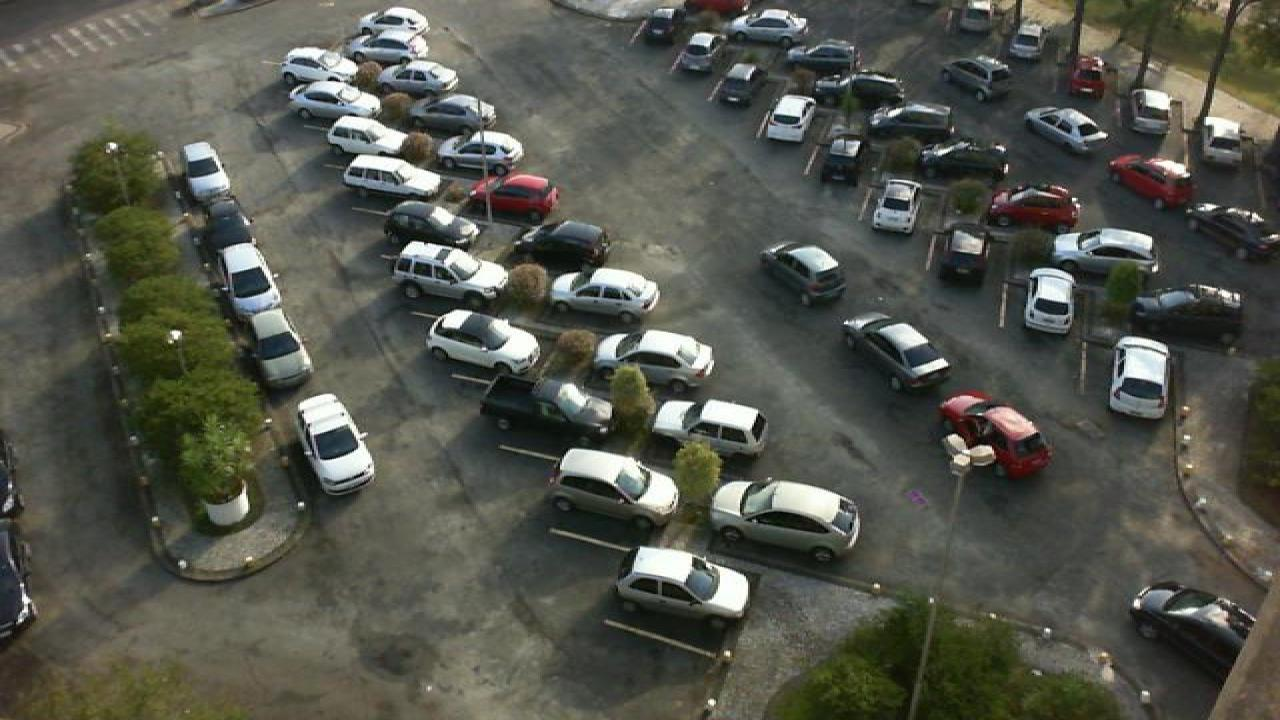Car: (706, 476, 864, 562), (1128, 580, 1258, 682), (612, 544, 754, 630), (550, 447, 682, 531), (476, 370, 616, 447), (938, 388, 1054, 479), (838, 310, 952, 390), (294, 391, 378, 498), (592, 327, 720, 394), (652, 396, 772, 465), (424, 308, 542, 377), (392, 240, 510, 304), (1132, 282, 1244, 342), (550, 267, 664, 325), (756, 241, 848, 306), (246, 306, 316, 388), (1108, 335, 1174, 421), (1184, 202, 1280, 260), (508, 218, 610, 272), (1052, 226, 1162, 276), (1106, 152, 1200, 208), (982, 182, 1082, 232), (340, 152, 444, 200), (216, 242, 284, 315), (1022, 102, 1110, 156), (384, 198, 482, 246), (470, 172, 562, 223), (1020, 266, 1078, 336), (322, 112, 410, 158), (288, 79, 386, 120), (432, 128, 526, 170), (936, 219, 998, 282), (408, 92, 500, 133), (918, 137, 1010, 178), (178, 139, 236, 202), (820, 66, 908, 107), (344, 30, 430, 70), (870, 99, 954, 139), (278, 46, 366, 84), (940, 55, 1014, 100), (198, 195, 258, 250), (376, 57, 460, 94), (354, 6, 432, 44), (730, 8, 812, 44), (870, 178, 922, 234), (764, 93, 820, 144), (818, 135, 868, 187), (714, 60, 768, 108), (786, 38, 858, 74), (1206, 114, 1254, 164), (1130, 86, 1176, 136), (676, 29, 726, 73), (632, 4, 682, 47), (1068, 54, 1110, 99), (1006, 19, 1048, 62), (954, 0, 996, 34)
